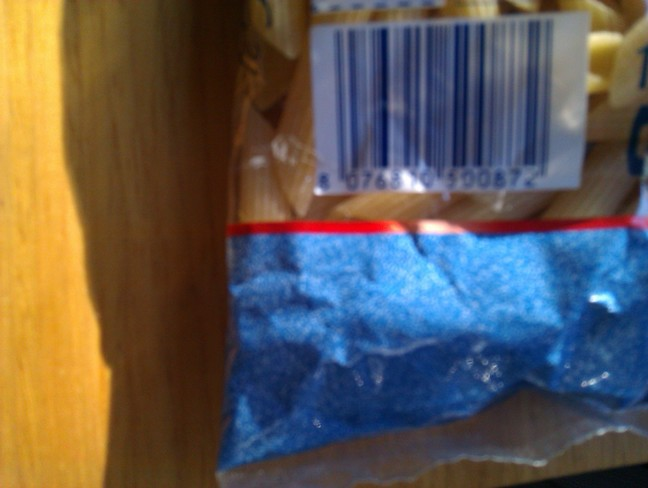barcode: (304, 19, 567, 197)
